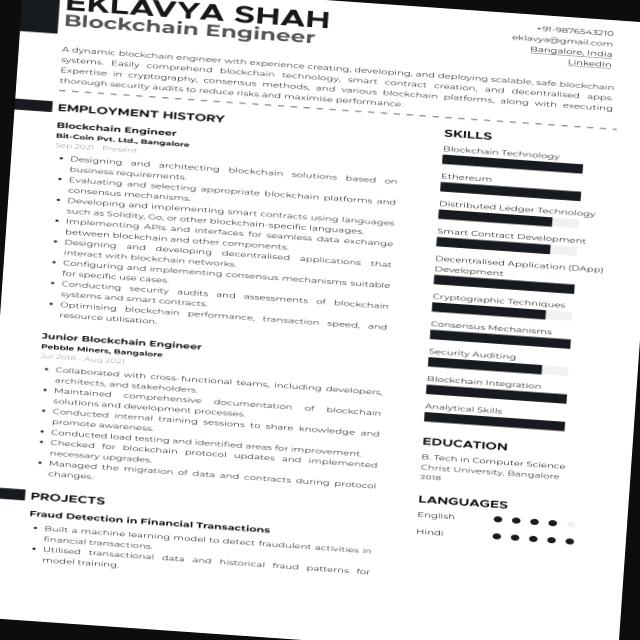contact: (494, 21, 634, 78)
education: (412, 436, 587, 506)
experience: (31, 100, 420, 504)
header: (59, 0, 342, 53)
languages: (412, 494, 592, 562)
projects: (25, 489, 389, 594)
skills: (412, 124, 607, 446)
summary: (45, 41, 623, 124)
